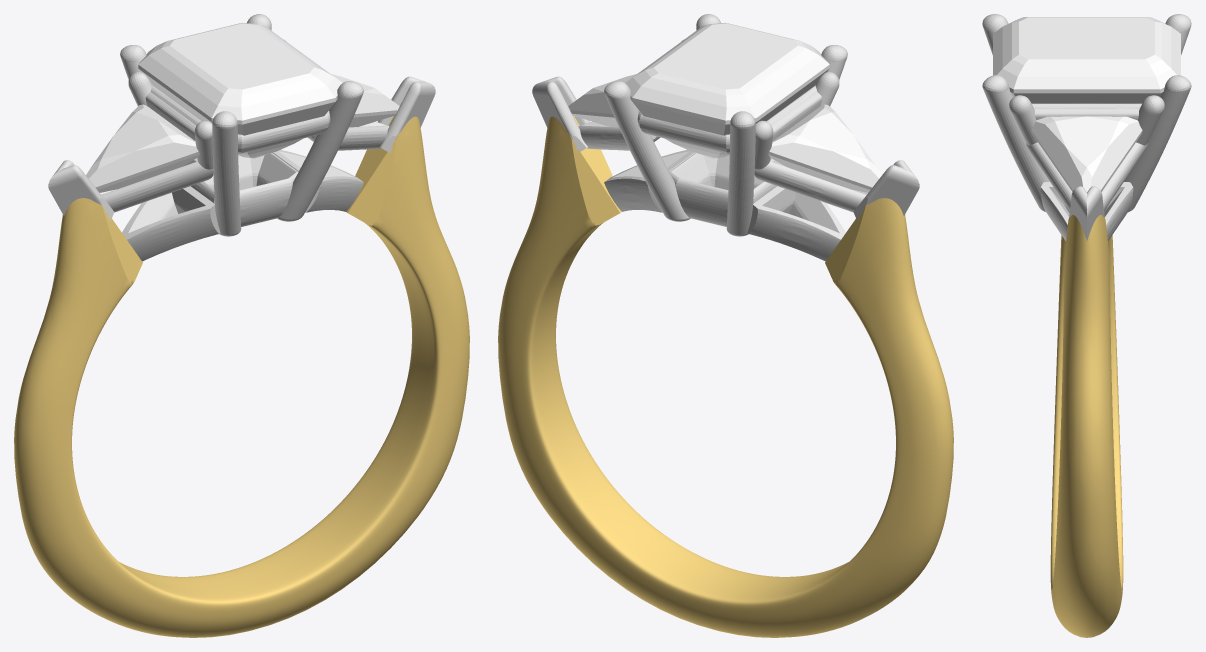
The model's file is StephenCplatProng_webgi.glb.
3 renders of one model, left to right at view 1: azimuth 30°, elevation 25°; view 2: azimuth 150°, elevation 25°; view 3: azimuth 270°, elevation 25°, orthographic.
Parts seen in each view (by area): view 1: stephen_pt_for_3d_model015, stephen_pt_for_3d_model007, stephen_diamonds_for_3d_model, stephen_diamonds_for_3d_model001, stephen_diamonds_for_3d_model002; view 2: stephen_pt_for_3d_model015, stephen_pt_for_3d_model007, stephen_diamonds_for_3d_model, stephen_diamonds_for_3d_model001, stephen_diamonds_for_3d_model002; view 3: stephen_pt_for_3d_model015, stephen_diamonds_for_3d_model, stephen_pt_for_3d_model007, stephen_diamonds_for_3d_model002.
Part boxes in pixels (bbox=[...]): stephen_pt_for_3d_model015: bbox=[14, 115, 469, 637]; stephen_pt_for_3d_model007: bbox=[48, 14, 435, 261]; stephen_diamonds_for_3d_model: bbox=[138, 22, 342, 158]; stephen_diamonds_for_3d_model001: bbox=[86, 104, 199, 192]; stephen_diamonds_for_3d_model002: bbox=[331, 74, 399, 127]; stephen_pt_for_3d_model015: bbox=[498, 115, 953, 637]; stephen_pt_for_3d_model007: bbox=[532, 14, 919, 261]; stephen_diamonds_for_3d_model: bbox=[625, 22, 829, 158]; stephen_diamonds_for_3d_model001: bbox=[768, 104, 881, 192]; stephen_diamonds_for_3d_model002: bbox=[568, 74, 636, 127]; stephen_pt_for_3d_model015: bbox=[1050, 215, 1123, 637]; stephen_diamonds_for_3d_model: bbox=[993, 17, 1180, 103]; stephen_pt_for_3d_model007: bbox=[982, 14, 1191, 240]; stephen_diamonds_for_3d_model002: bbox=[1031, 116, 1142, 191].
Size of the model in its own units: 2.46 by 2.99 by 0.9893.
